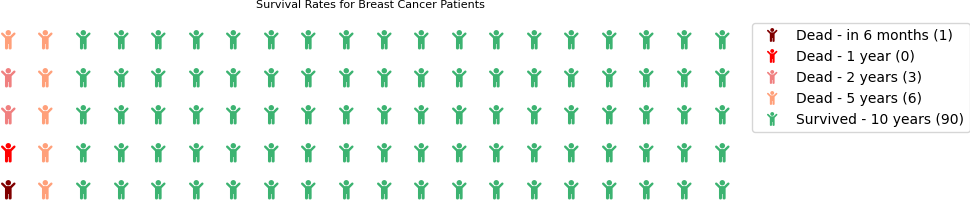

This screenshot's page, from the dashboard's own definition file:
{"tool":"tableau","page":{"name":"Dashboard 1","canvas":[1000,1000],"units":"permille","ordinal":0},"visuals":[{"type":"worksheet","title":"Sheet 3","mark":"Automatic","rows":["Category"],"box":[5.9,11.4,988.3,62.6]},{"type":"worksheet","title":"Sheet 2","mark":"Automatic","rows":["Component/Deliverable","Calculation_600104685618405377"],"box":[5.9,74,435.4,914.6]},{"type":"worksheet","title":"Sheet 1","mark":"Shape","rows":["Performance","Calculation_600104685617672192"],"cols":["Importance"],"box":[441.3,74,435.4,914.6]},{"type":"legend","title":"Sheet 2","param":"[federated.1sumkmq0vcyxtd1485je51e8ata2].[sum:Calculation_600104685618442242:qk]","box":[876.7,74,117.4,83.9]},{"type":"legend","title":"Sheet 2","param":"[federated.1sumkmq0vcyxtd1485je51e8ata2].[:Measure Names]","box":[876.7,157.9,117.4,89.6]},{"type":"filter","title":"Sheet 1","param":"[federated.1sumkmq0vcyxtd1485je51e8ata2].[none:Category:nk]","box":[876.7,247.5,117.4,155.1]},{"type":"legend","title":"Sheet 1","param":"[federated.1sumkmq0vcyxtd1485je51e8ata2].[none:Calculation_600104685618405377:nk","box":[768.9,779.5,102.7,106.7]}]}

Visuals, with their boxes on the dashboard's canvas, which has no fixed pixel size, in thousandths of its width and height (x1, y1, x2, y2). These are canvas units, not pixel positions in the 970x200 screenshot, which may show the page scaled, cropped or inside an application window:
"Sheet 3" worksheet: select_region(6, 11, 994, 74)
"Sheet 2" worksheet: select_region(6, 74, 441, 989)
"Sheet 1" worksheet (Shape marks): select_region(441, 74, 877, 989)
"Sheet 2" legend: select_region(877, 74, 994, 158)
"Sheet 2" legend: select_region(877, 158, 994, 248)
"Sheet 1" filter: select_region(877, 248, 994, 403)
"Sheet 1" legend: select_region(769, 780, 872, 886)
